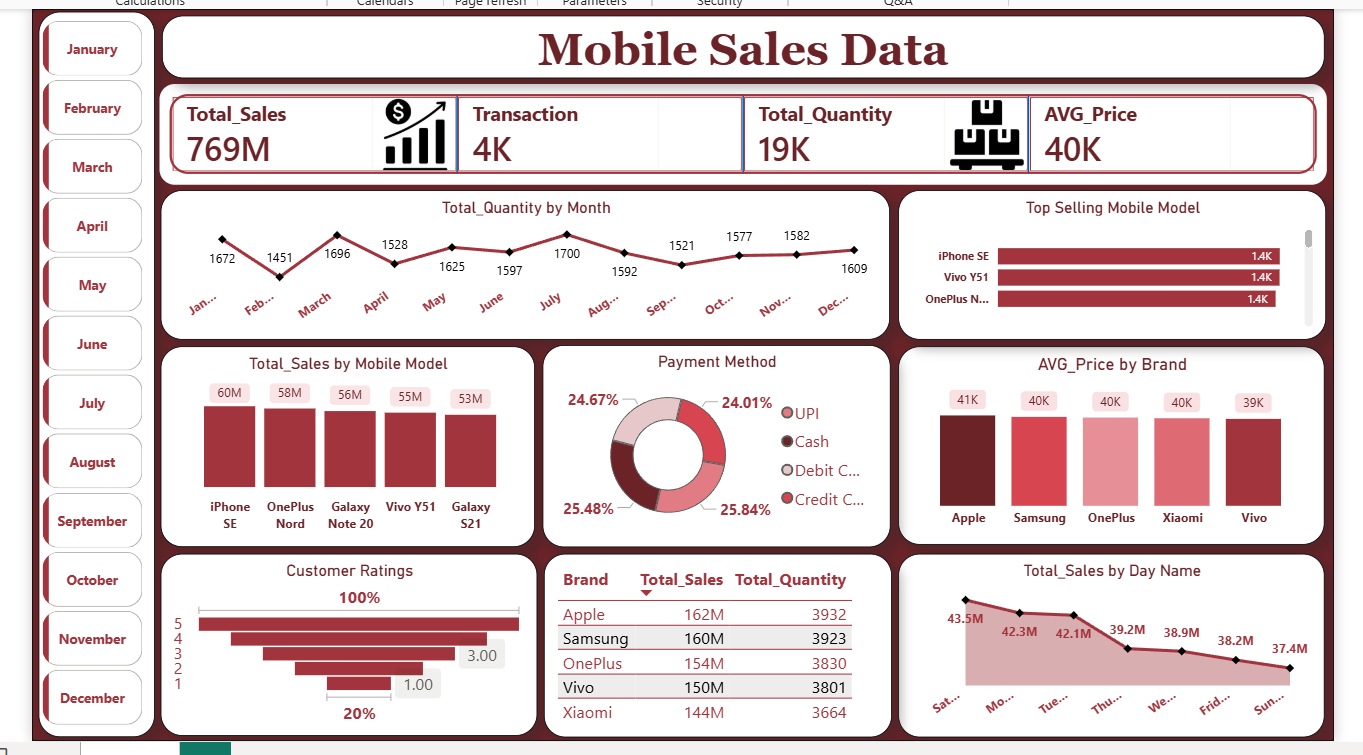

The dashboard page shown, as its layout file describes it:
{"tool":"powerbi","page":{"name":"Page 1","canvas":[1280,720],"ordinal":0},"visuals":[{"type":"shape","box":[6,2.4,114.6,713],"z":0},{"type":"advancedSlicerVisual","fields":{"Values":["Sales_Data.Date.Variation.Date Hierarchy.Month"]},"box":[5.3,6.7,108,713.3],"z":1000},{"type":"cardVisual","fields":{"Data":["Sales_Data.Total_Sales","Sales_Data.Transaction","Sales_Data.Total_Quantity","Sales_Data.AVG_Price"]},"box":[120,68.4,1158.5,109.7],"z":2000},{"type":"clusteredColumnChart","fields":{"Category":["Sales_Data.Brand"],"Y":["Sales_Data.AVG_Price"]},"box":[851.5,331.6,419.3,194.8],"z":3000},{"type":"lineChart","fields":{"Category":["Sales_Data.Date.Variation.Date Hierarchy.Month","Sales_Data.Date.Variation.Date Hierarchy.Day"],"Y":["Sales_Data.Total_Quantity"]},"box":[126.4,178,717.3,147.1],"z":4000},{"type":"clusteredColumnChart","fields":{"Category":["Sales_Data.Mobile Model"],"Y":["Sales_Data.Total_Sales"]},"box":[126.4,331.6,367.7,197.4],"z":5000},{"type":"donutChart","title":" Payment Method","fields":{"Category":["Sales_Data.Payment Method"],"Y":["Sales_Data.Transaction"]},"box":[501.9,330.3,341.9,198.7],"z":6000},{"type":"funnel","title":"Customer Ratings ","fields":{"Category":["Sales_Data.Customer Ratings"],"Y":["Avg(Sales_Data.Customer Ratings)"]},"box":[126.4,535.4,370.3,179.3],"z":7000},{"type":"areaChart","fields":{"Category":["Sales_Data.Day Name"],"Y":["Sales_Data.Total_Sales"]},"box":[851.5,535.4,419.3,180.6],"z":8000},{"type":"tableEx","fields":{"Values":["Sales_Data.Brand","Sales_Data.Total_Sales","Sales_Data.Total_Quantity"]},"box":[503.1,535.4,341.9,180.6],"z":9000},{"type":"shape","box":[127.7,6.5,1143,61.9],"z":10000},{"type":"barChart","title":"Top Selling Mobile Model","fields":{"Category":["Sales_Data.Mobile Model"],"Y":["Sum(Sales_Data.Units Sold)"]},"box":[851.5,178,420.6,147.1],"z":11000}]}

Visuals, with their boxes in screenshot pixels (x1, y1, x2, y2):
shape: <bbox>31, 2, 150, 741</bbox>
advancedSlicerVisual - Sales_Data.Date.Variation.Date Hierarchy.Month: <bbox>30, 7, 142, 746</bbox>
cardVisual - Sales_Data.Total_Sales x Sales_Data.Transaction: <bbox>149, 71, 1349, 184</bbox>
clusteredColumnChart - Sales_Data.Brand x Sales_Data.AVG_Price: <bbox>907, 343, 1341, 545</bbox>
lineChart - Sales_Data.Date.Variation.Date Hierarchy.Month x Sales_Data.Date.Variation.Date Hierarchy.Day: <bbox>156, 184, 899, 337</bbox>
clusteredColumnChart - Sales_Data.Mobile Model x Sales_Data.Total_Sales: <bbox>156, 343, 537, 548</bbox>
" Payment Method" donutChart: <bbox>545, 342, 899, 548</bbox>
"Customer Ratings " funnel: <bbox>156, 554, 539, 740</bbox>
areaChart - Sales_Data.Day Name x Sales_Data.Total_Sales: <bbox>907, 554, 1341, 741</bbox>
tableEx - Sales_Data.Brand x Sales_Data.Total_Sales: <bbox>546, 554, 900, 741</bbox>
shape: <bbox>157, 7, 1341, 71</bbox>
"Top Selling Mobile Model" barChart: <bbox>907, 184, 1342, 337</bbox>
